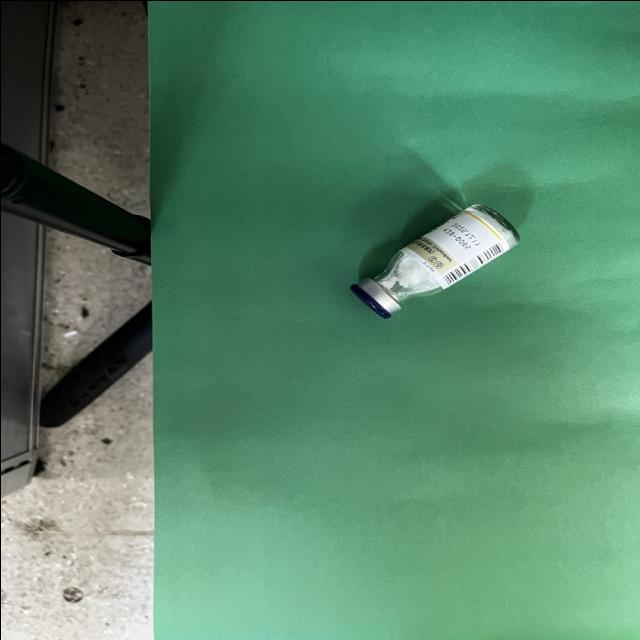Vials: (349, 204, 518, 318)
